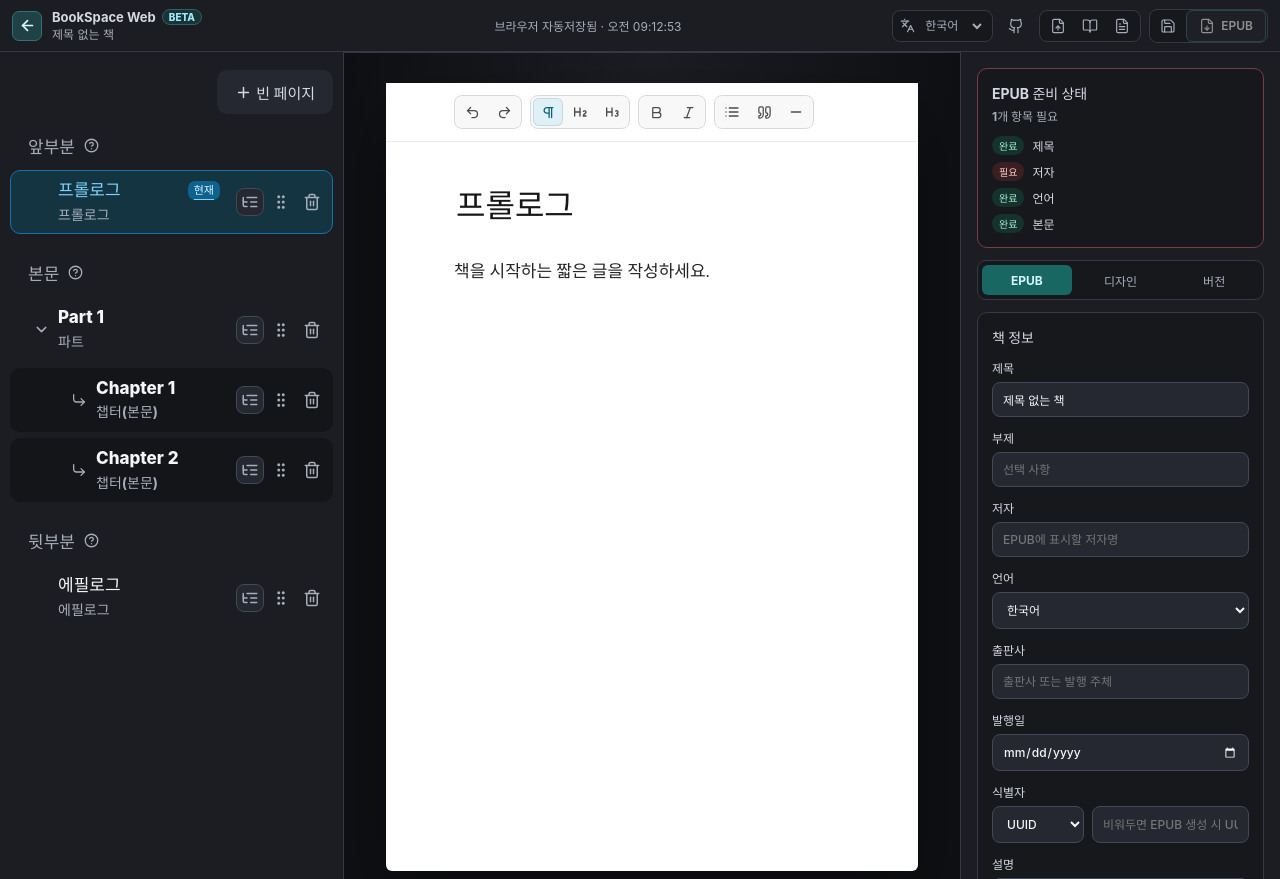
BookSpace Web editor › updates book metadata from the inspector
The image size is (1280, 879).
expect the field with placeholder "EPUB에 표시할 저자명" is shown: met, box [992, 522, 1249, 557]
Replace the text in the field labelled "제목" with "웹에서 쓰는 책": x=1120, y=400 [992, 382, 1249, 417]
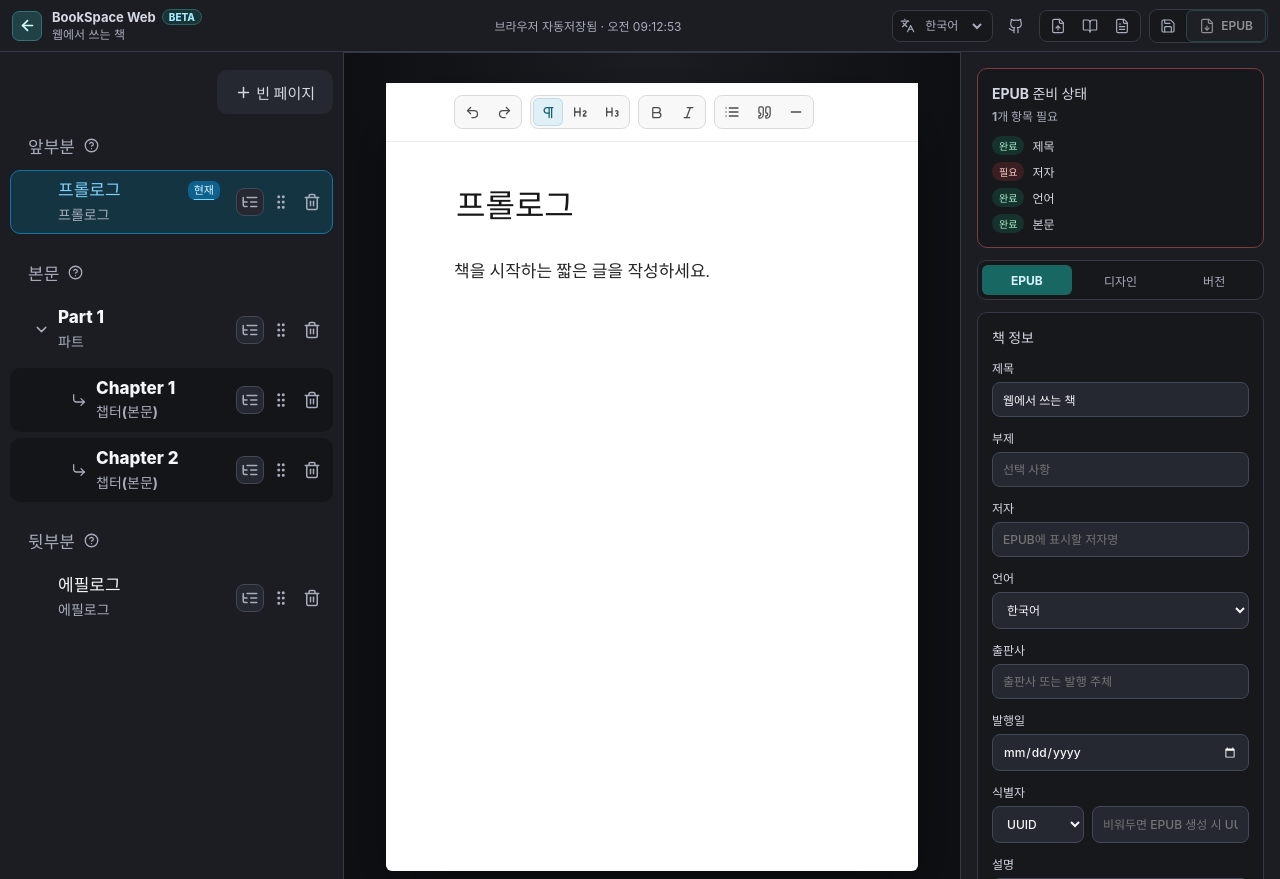
expect the text "웹에서 쓰는 책" is shown: met, box [52, 27, 125, 42]
